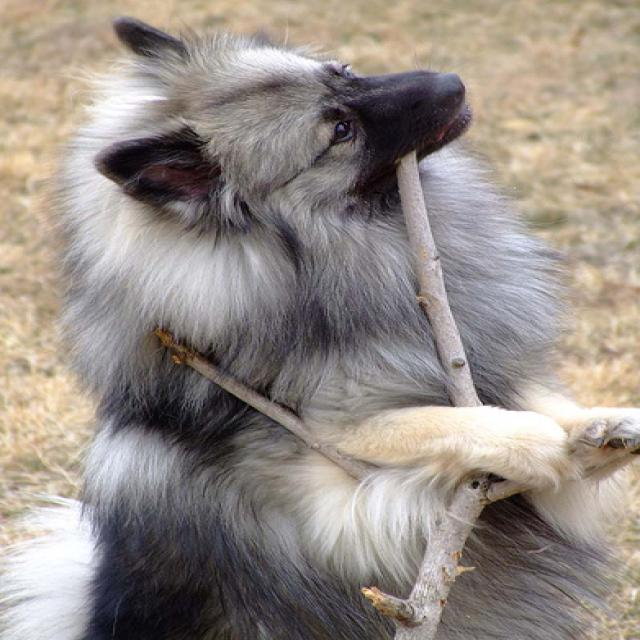dog-keeshond: (2, 5, 637, 637)
